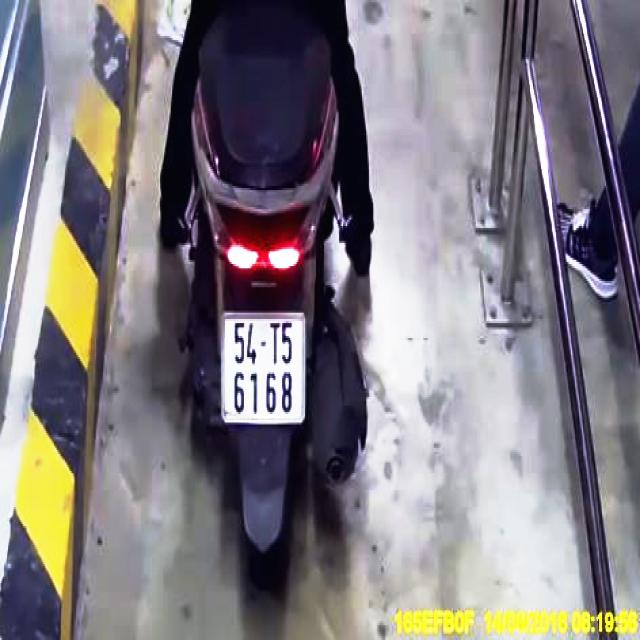license_plate: (221, 316, 307, 424)
